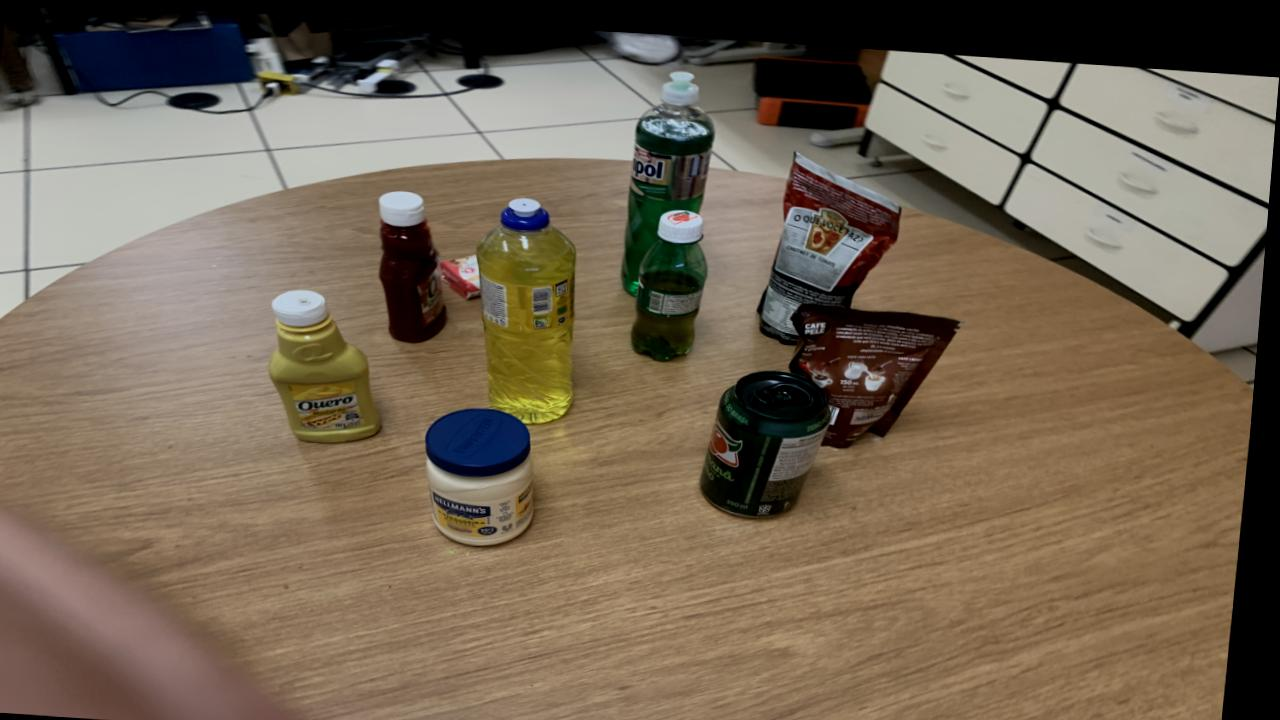Coffee-Pantry_Items: (795, 294, 967, 438)
Detergent-Cleanup_Items: (480, 192, 581, 418), (626, 64, 716, 287)
Guarana-Drinks: (636, 201, 712, 353)
Guarana_Can-Drinks: (707, 362, 836, 509)
Ketchup-Pantry_Items: (381, 187, 452, 337)
Mayonnaise-Pantry_Items: (432, 403, 542, 541)
Mustard-Pantry_Items: (274, 285, 388, 439)
Soap-Cleanup_Items: (444, 250, 485, 293)
Tomato_Sauce-Pantry_Items: (762, 144, 903, 335)
